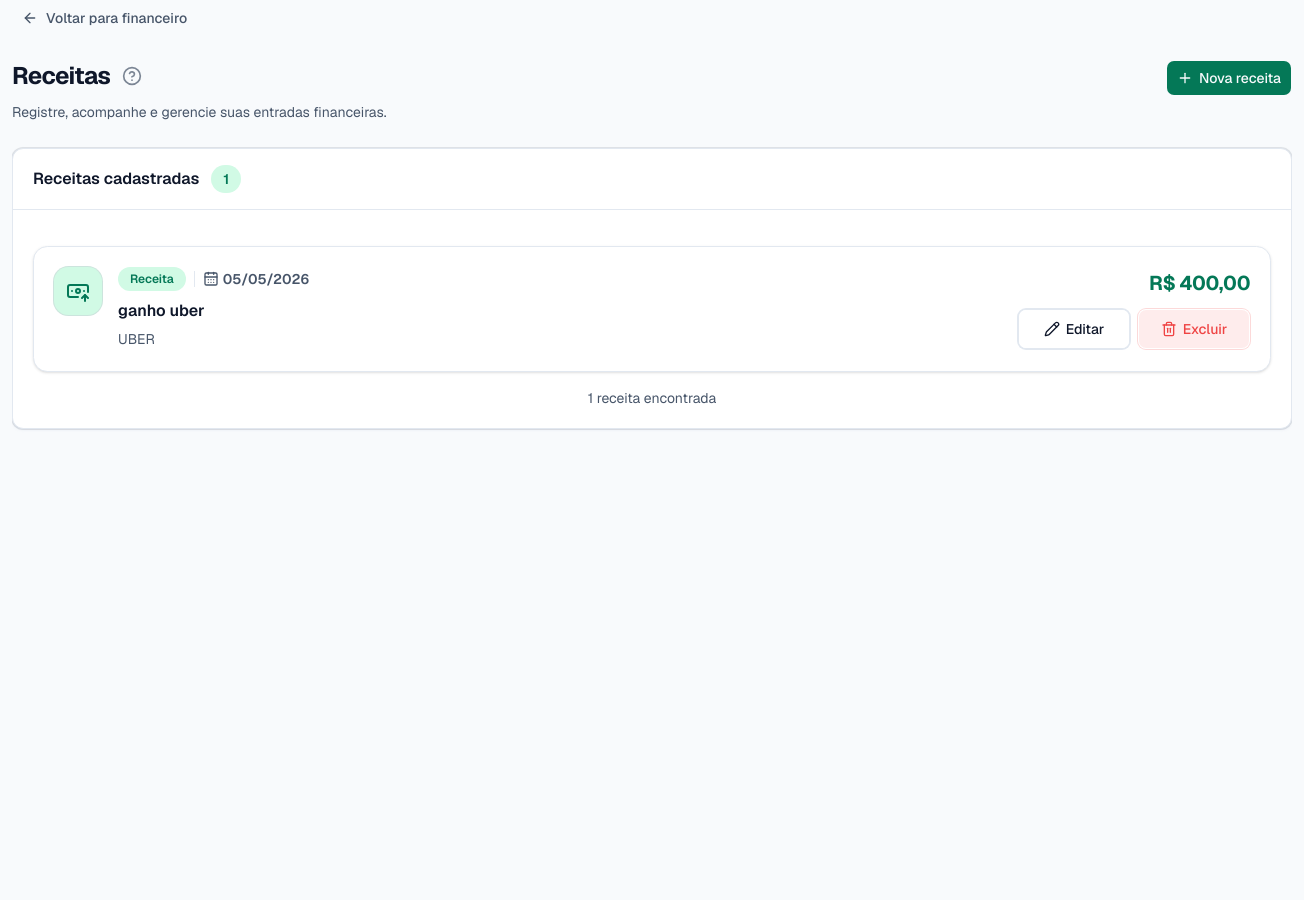
Test: FinanceIncomesPageContent › should open create income form
Click the button "Nova receita". click: x=1229, y=78
box: [1166,60,1292,96]
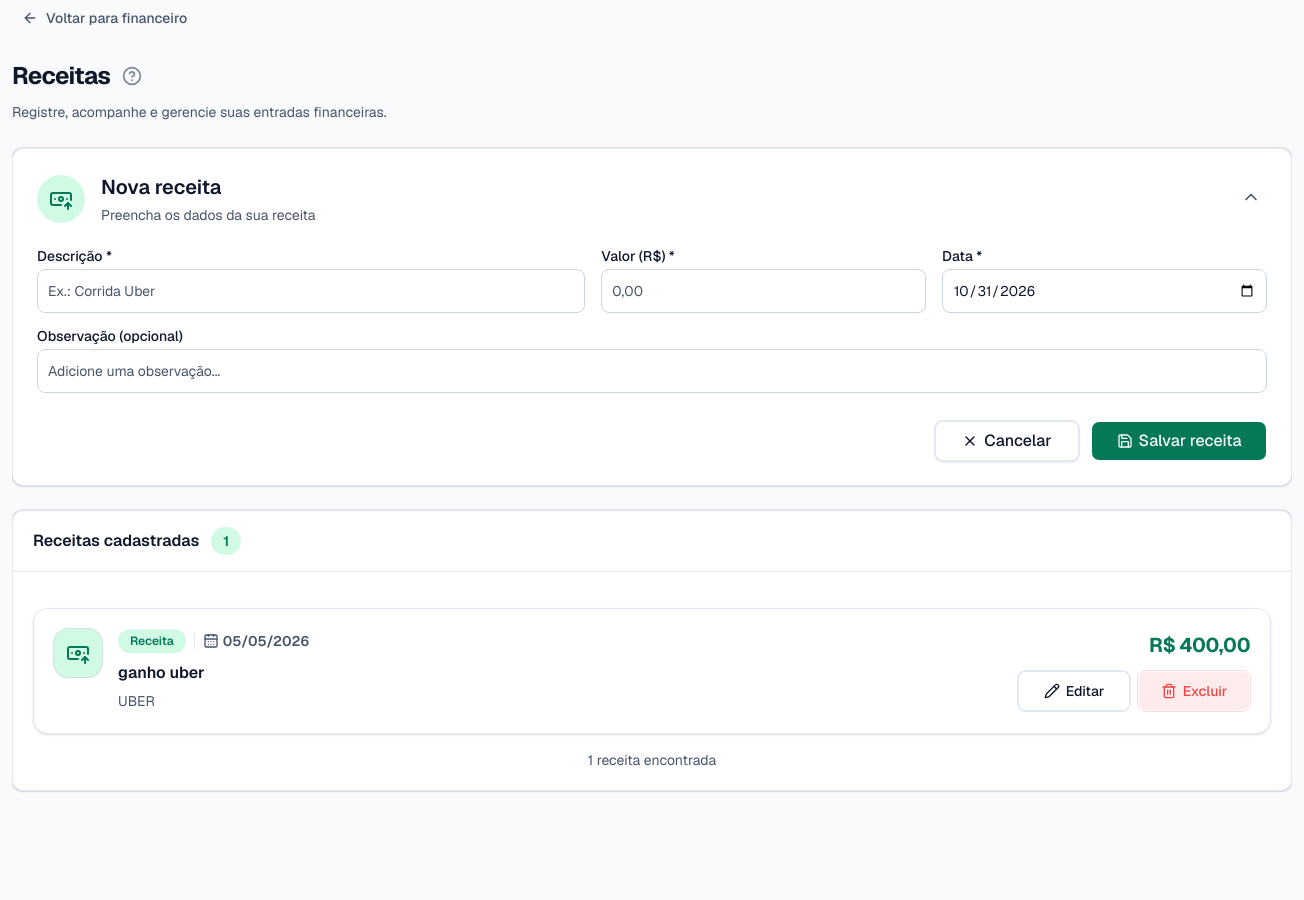
Check: the heading "Nova receita" is shown, box [101,174,222,200]
Check: the number of buttons "Cancelar" is 1, box [935,421,1079,461]
